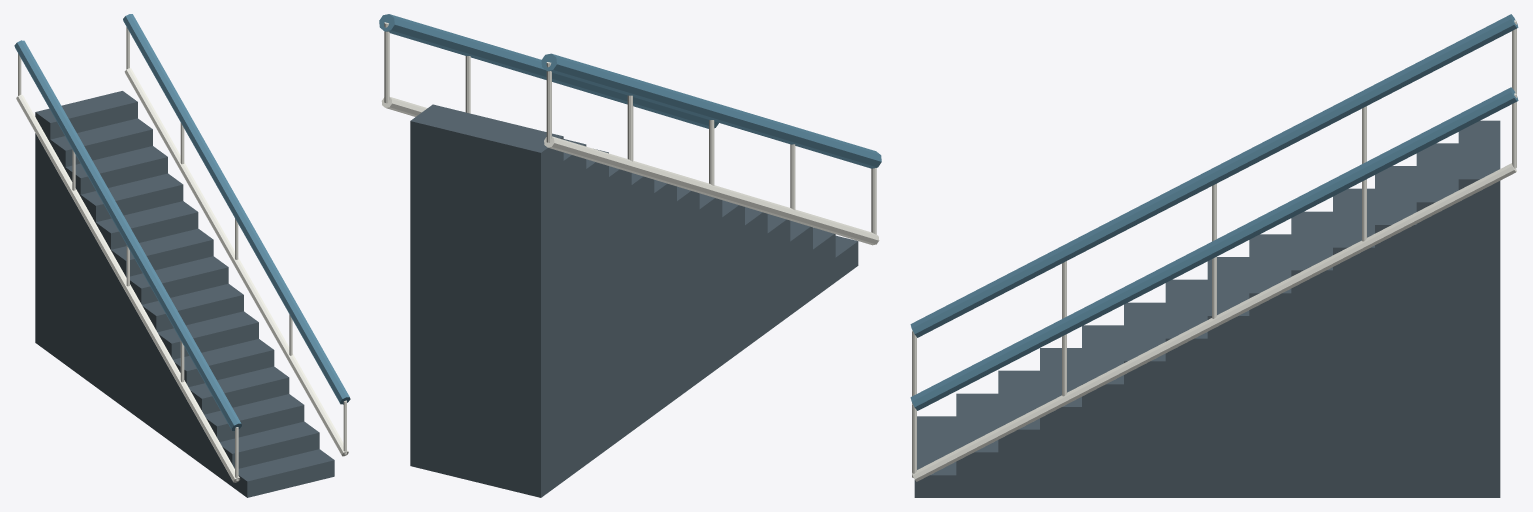
Rendered from american-football-stadium-kit-concourse-escalator-c1c9adab__22368.glb.
3 renders of one model, left to right at view 1: azimuth 30°, elevation 25°; view 2: azimuth 150°, elevation 25°; view 3: azimuth 270°, elevation 25°, orthographic. The views are drawn at different scales.
Visible parts, largest first — view 1: concourse-escalator; view 2: concourse-escalator; view 3: concourse-escalator.
Boxes of the visible parts, x1,y1,x2,y2 form: concourse-escalator: (14, 14, 350, 497); concourse-escalator: (379, 14, 881, 497); concourse-escalator: (910, 14, 1518, 497).
Size of the model in its own units: 1.36 by 3.3 by 4.36.
